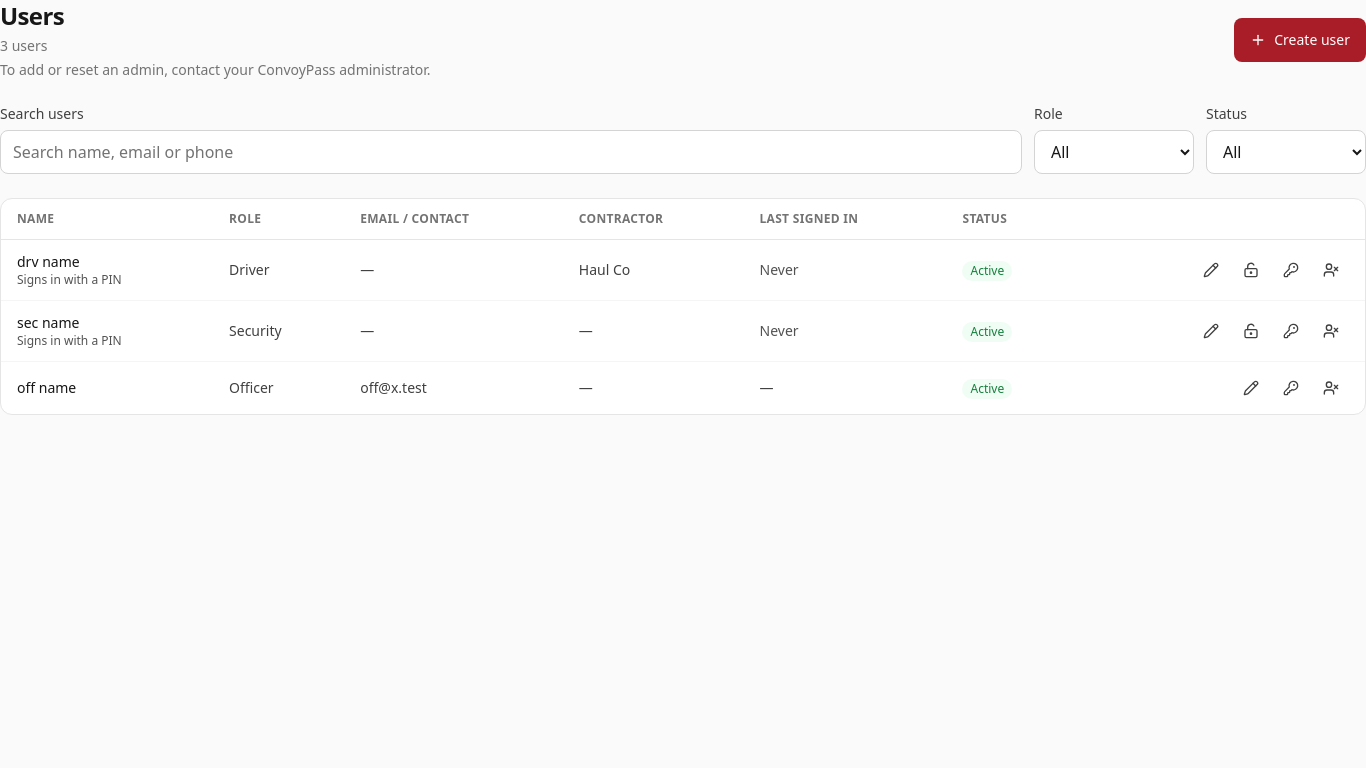
Scenario: Users page: Reissue PIN › drivers and security get "Reissue PIN" with a confirmation, then the new PIN card; staff keep Reset password
Check: the button named "Reissue PIN: drv name" is shown, box 1273,252 -> 1309,288
Check: the button named "Reset password: off name" is shown, box 1273,370 -> 1309,406
Click the button named "Reissue PIN: sec name": (1291, 331) 1273,313 -> 1309,349
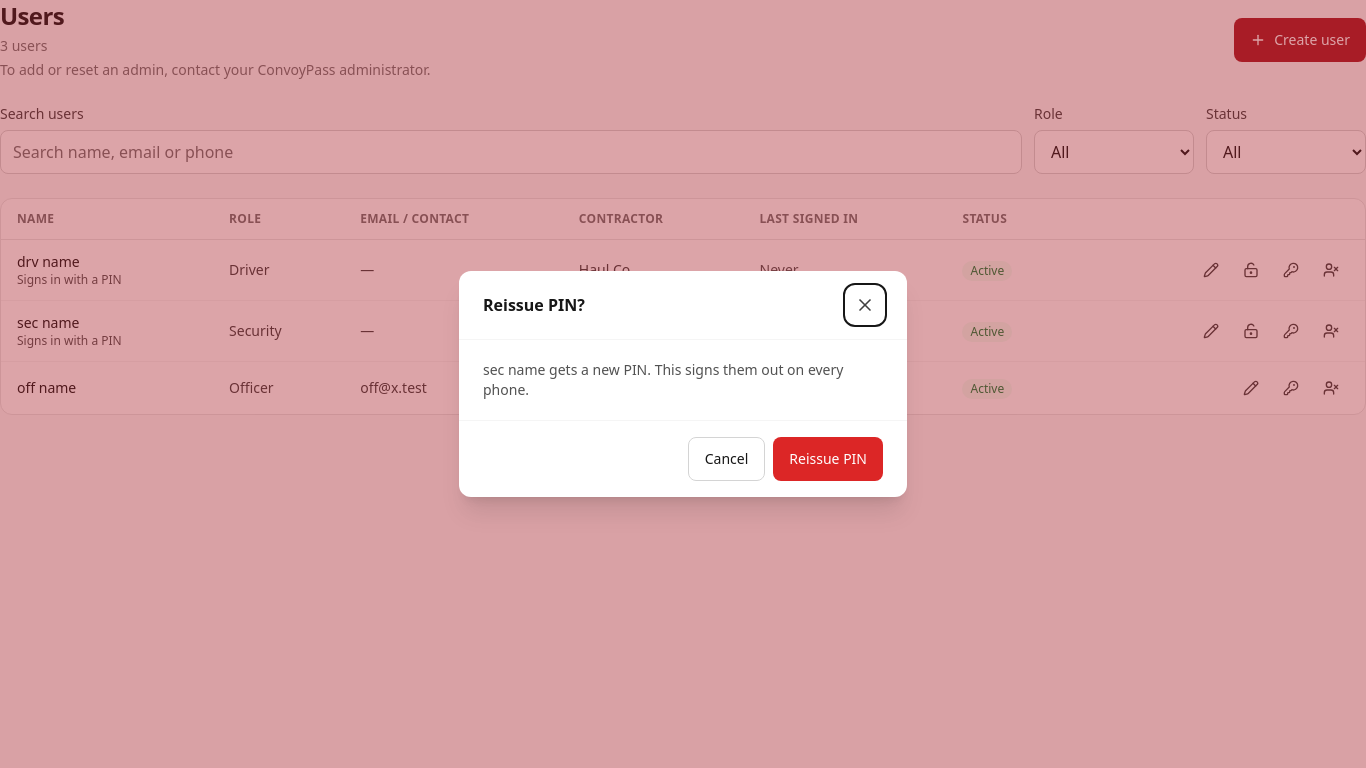
Check: the text "sec name gets a new PIN. This signs them out on every phone." is shown, box 483,360 -> 883,400
Click the button "Reissue PIN": (828, 459) 773,437 -> 883,481
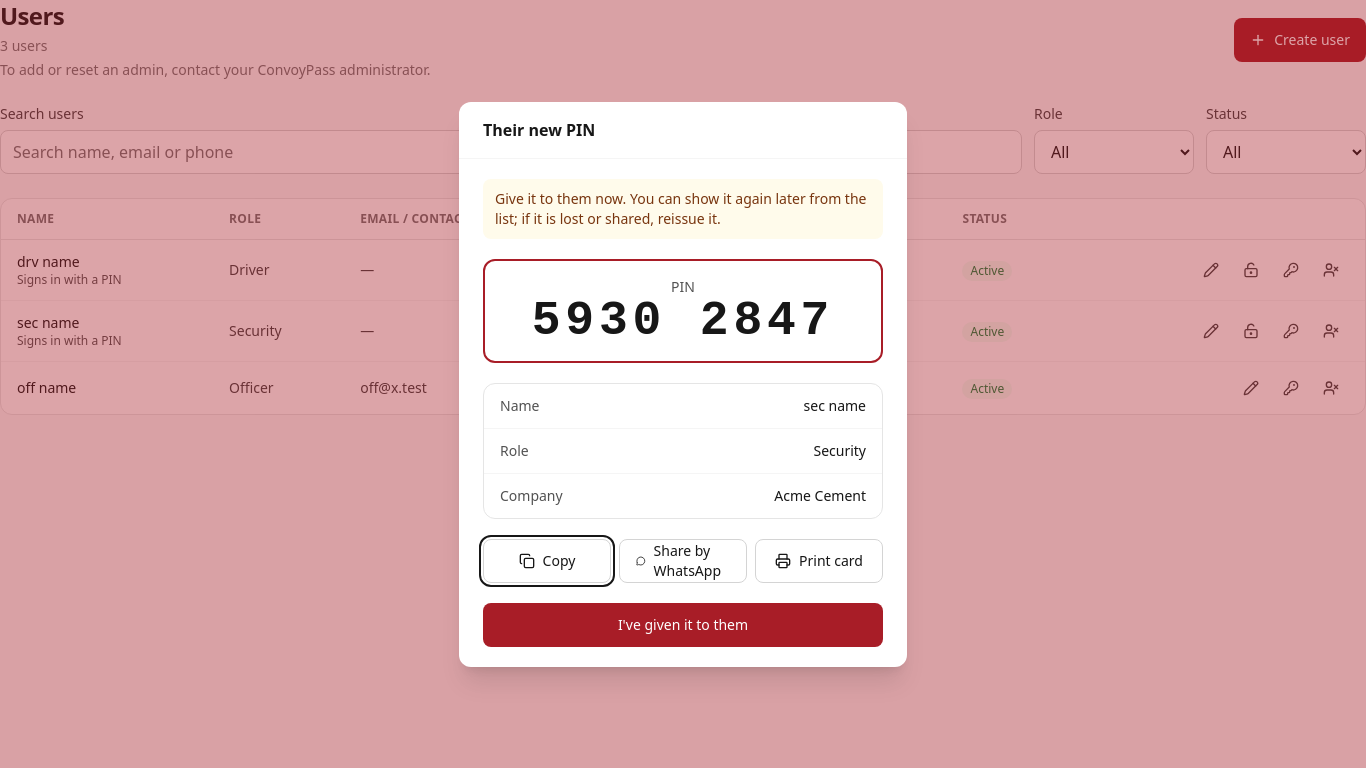
Check: the text with test id "pin-value" reads "5930 2847", box 532,294 -> 834,348
